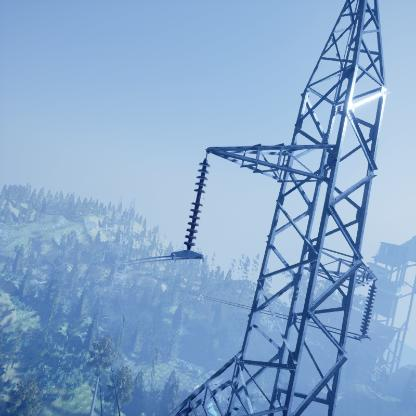insulator: (182, 161, 211, 247), (359, 284, 377, 335)
